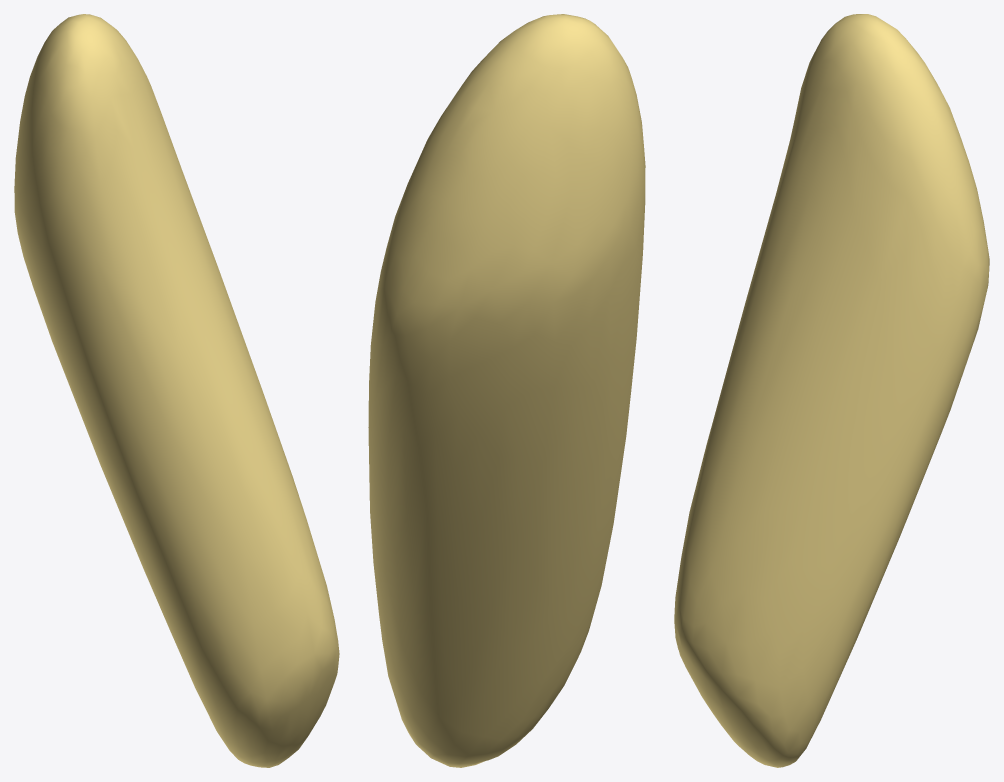
The model's file is fma73327_fj7510m.glb.
3 views of the same model, side by side, from view 1: azimuth 30°, elevation 25°; view 2: azimuth 150°, elevation 25°; view 3: azimuth 270°, elevation 25° (orthographic). The views are drawn at different scales.
Parts seen in each view (by area): view 1: FMA73327_FJ7510M; view 2: FMA73327_FJ7510M; view 3: FMA73327_FJ7510M.
Boxes of the visible parts, x1,y1,x2,y2 form: FMA73327_FJ7510M: (14,14,339,767); FMA73327_FJ7510M: (368,14,645,767); FMA73327_FJ7510M: (674,14,989,767).
Size of the model in its own units: 0.00212 by 0.00598 by 0.0025.
